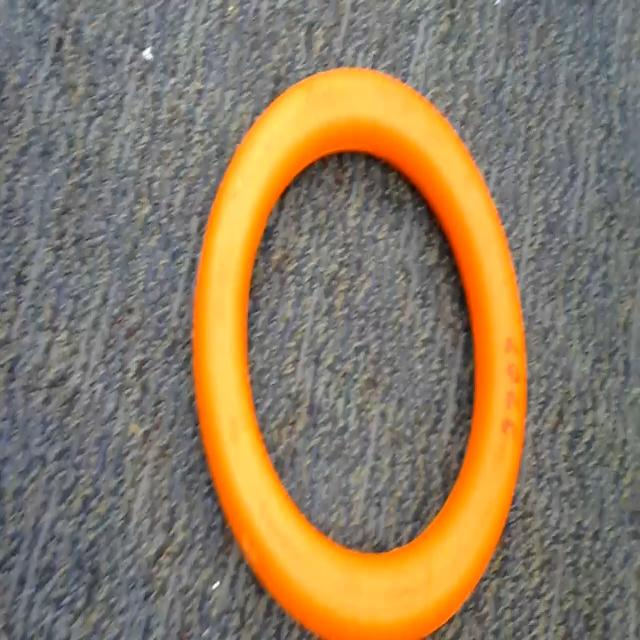note: (163, 56, 569, 640)
